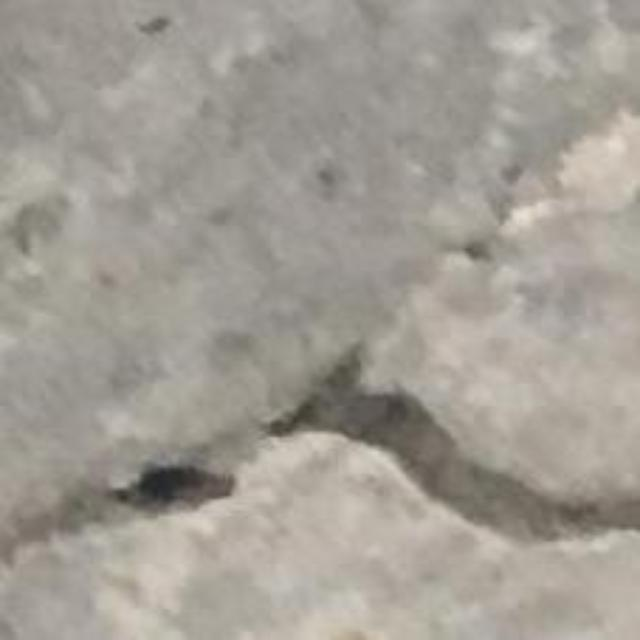crack: (0, 350, 639, 563)
